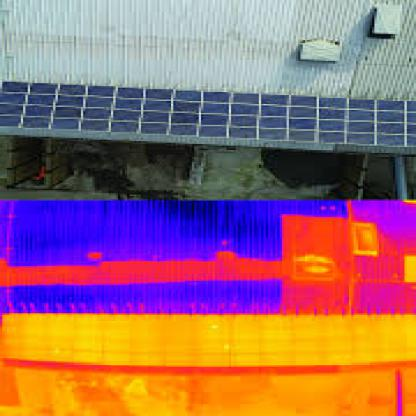Defects: (404, 254, 414, 290)
